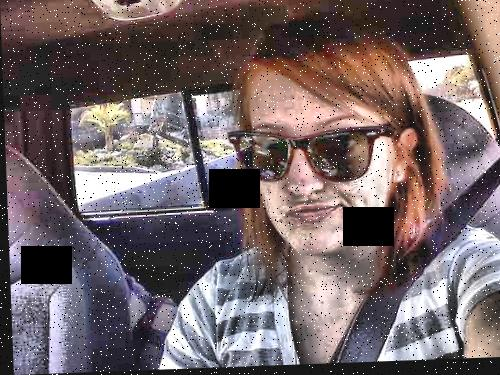seatbelt: (321, 174, 500, 356)
